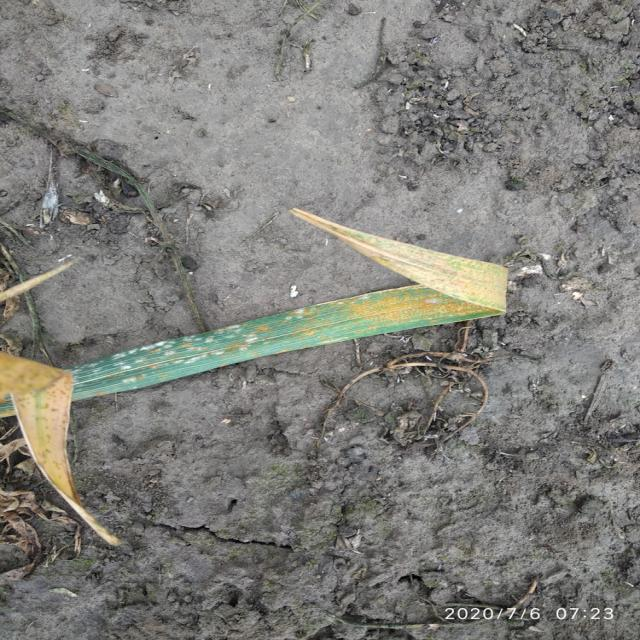wheat-powdery-mildew: (67, 304, 320, 401)
wheat-yellowrust: (344, 286, 503, 337)
